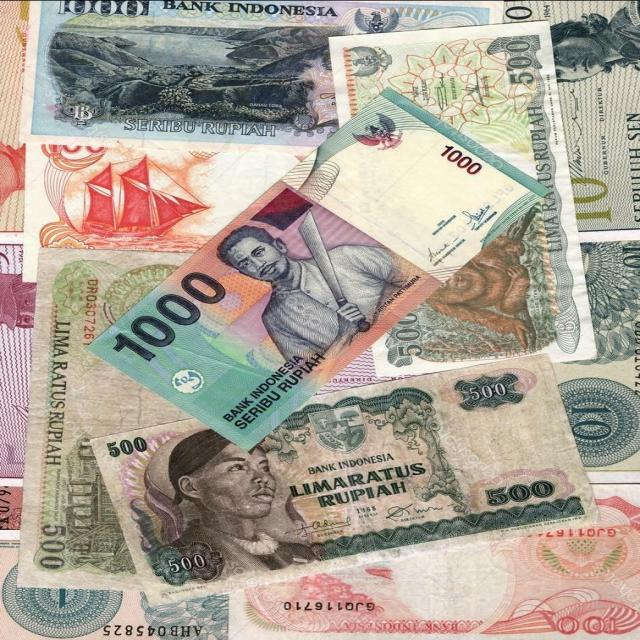1000IndonesianRupiah: (127, 109, 520, 382)
